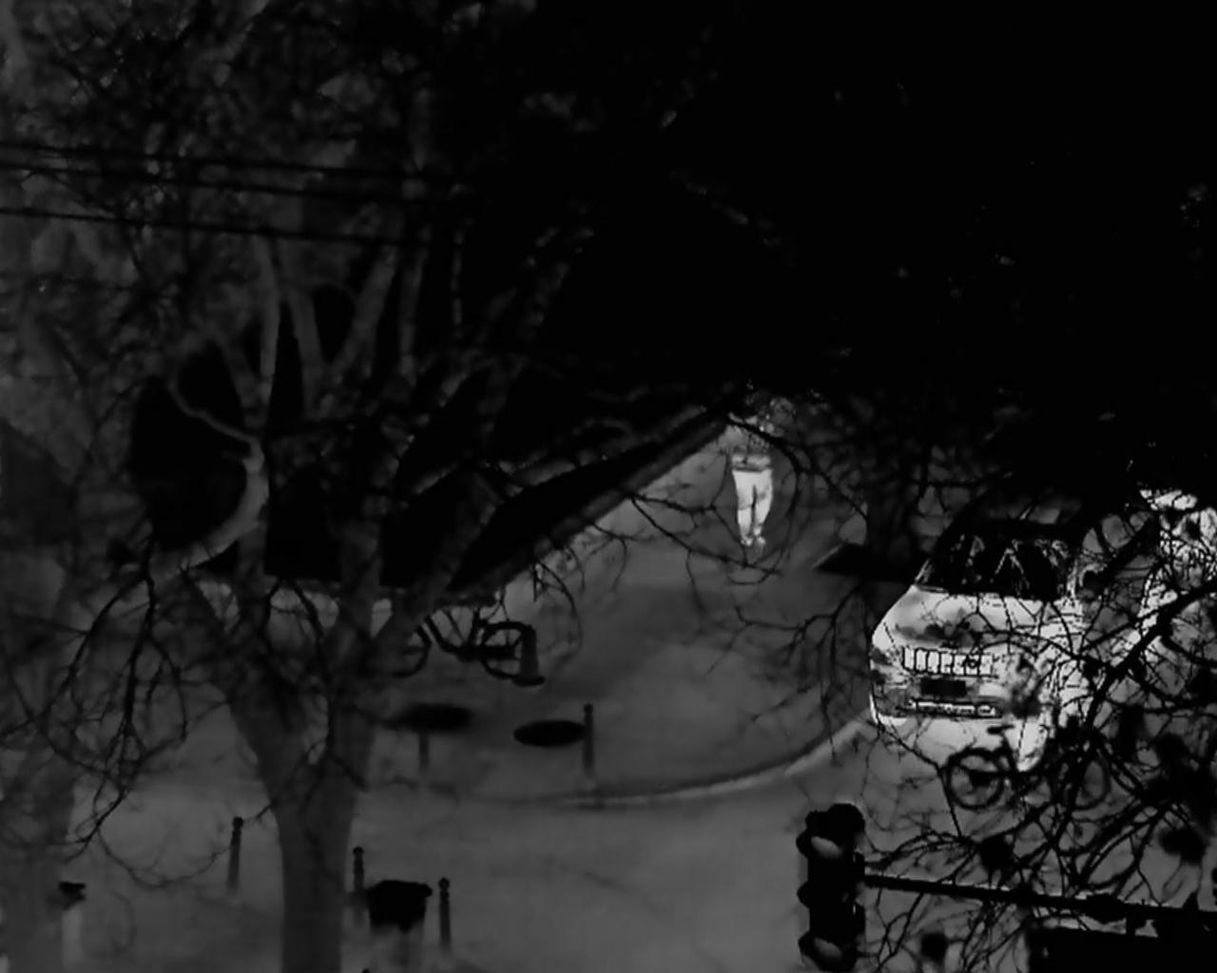person: (724, 411, 777, 551)
